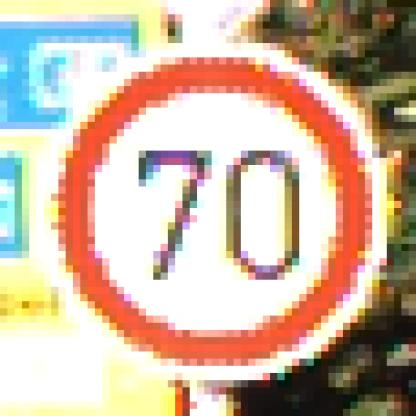Speed Limit 70: (57, 52, 384, 370)
